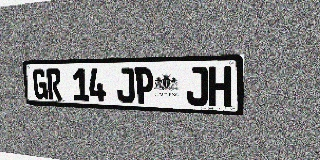1: (72, 68, 89, 101)
4: (88, 68, 106, 102)
G: (32, 69, 48, 100)
H: (209, 66, 232, 107)
J: (186, 67, 208, 106), (116, 68, 135, 103)
P: (135, 67, 154, 104)
R: (46, 69, 62, 100)
